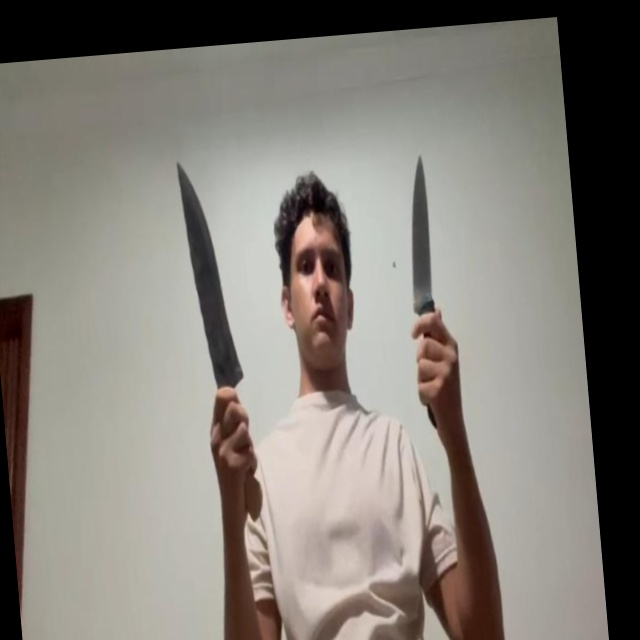Sharp-Object: (175, 158, 243, 385), (399, 154, 436, 310)
